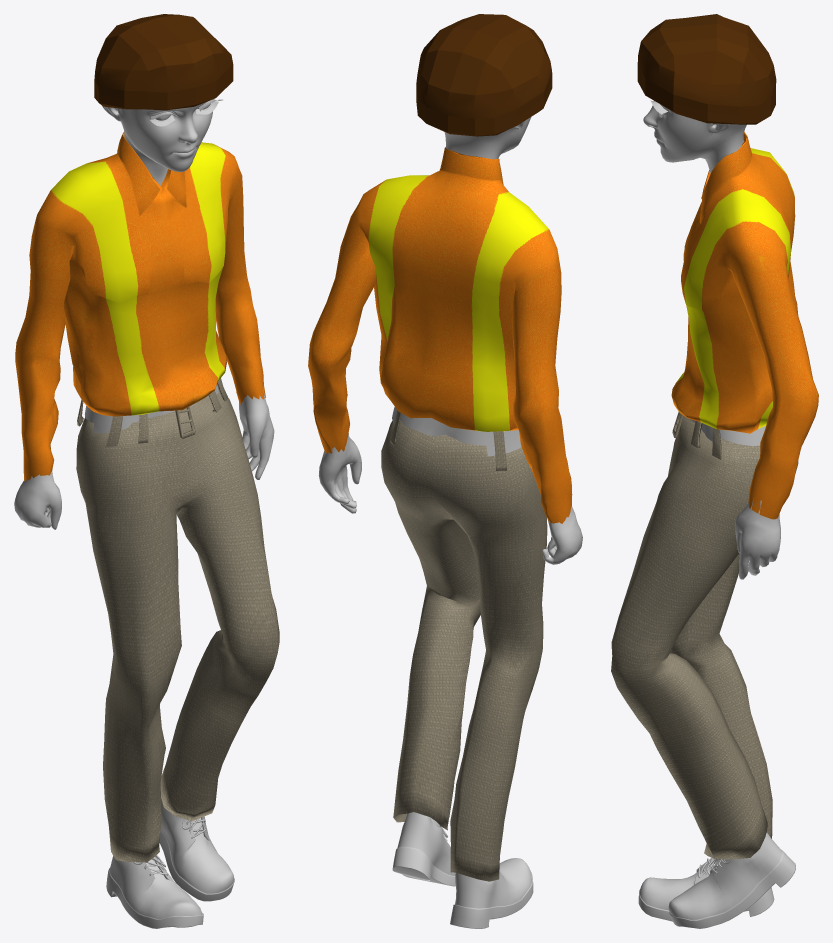
File: Controlador.fbx
3 views of the same model, side by side, from view 1: azimuth 30°, elevation 25°; view 2: azimuth 150°, elevation 25°; view 3: azimuth 270°, elevation 25° (orthographic).
Parts seen in each view (by area): view 1: Bottoms, Tops, Hats3, Shoes, Body, Gloves; view 2: Tops, Bottoms, Hats3, Shoes, Body, Gloves; view 3: Bottoms, Tops, Hats3, Shoes, Body, Gloves.
Part boxes in pixels (x1,y1,x2,y2): Bottoms: (76,378,279,862); Tops: (15,132,265,480); Hats3: (94,14,233,110); Shoes: (106,798,234,928); Body: (84,99,218,433); Gloves: (14,387,274,529); Tops: (308,147,572,523); Bottoms: (381,410,547,881); Hats3: (416,14,552,136); Shoes: (392,812,533,928); Body: (392,117,531,827); Gloves: (318,433,582,564); Bottoms: (611,412,798,859); Tops: (671,132,818,519); Hats3: (637,14,776,124); Shoes: (638,832,795,928); Body: (643,101,765,445); Gloves: (734,497,780,579).
Bounding box in the file's own units: 49.17 × 165 × 34.84.
